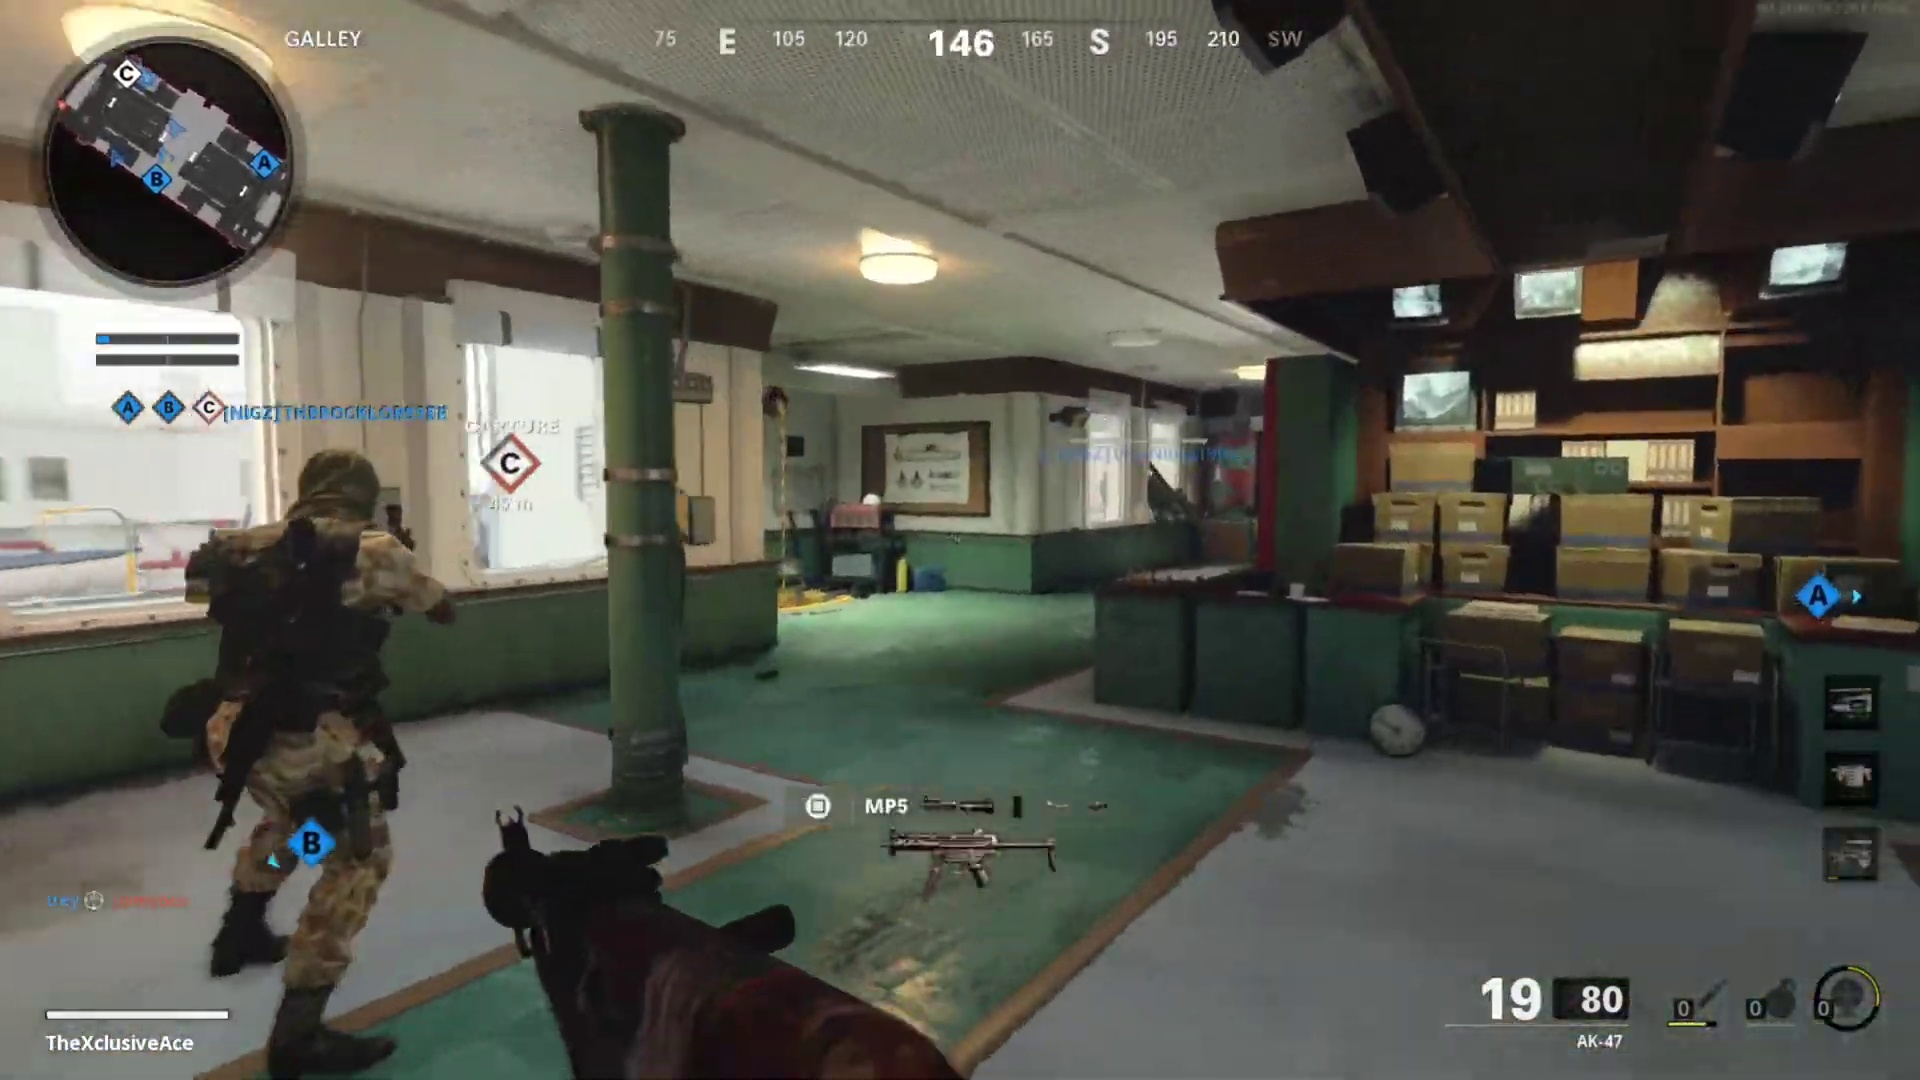head: (290, 452, 391, 524)
person: (195, 445, 441, 1063)
